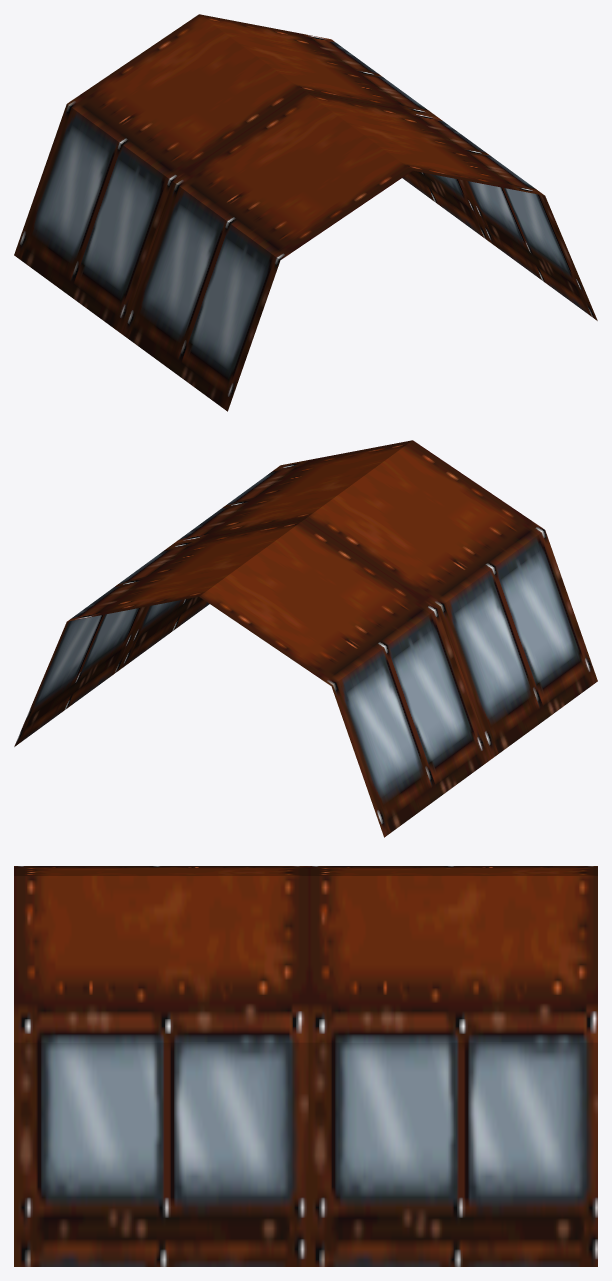
Rendered from Dach_HalbtonneGanz4_1131.glb.
The picture shows the model from 3 angles, top to bottom: view 1: azimuth 30°, elevation 25°; view 2: azimuth 150°, elevation 25°; view 3: azimuth 270°, elevation 25°; orthographic projection. The views are drawn at different scales.
Parts seen in each view (by area): view 1: pCylinderShape1; view 2: pCylinderShape1; view 3: pCylinderShape1.
Part boxes in pixels (x1=…): pCylinderShape1: x1=14, y1=14, x2=597, y2=411; pCylinderShape1: x1=14, y1=440, x2=597, y2=837; pCylinderShape1: x1=14, y1=866, x2=597, y2=1266.
Size of the model in its own units: 1 by 0.5056 by 1.
Materials: 1 (1 with a texture image).
